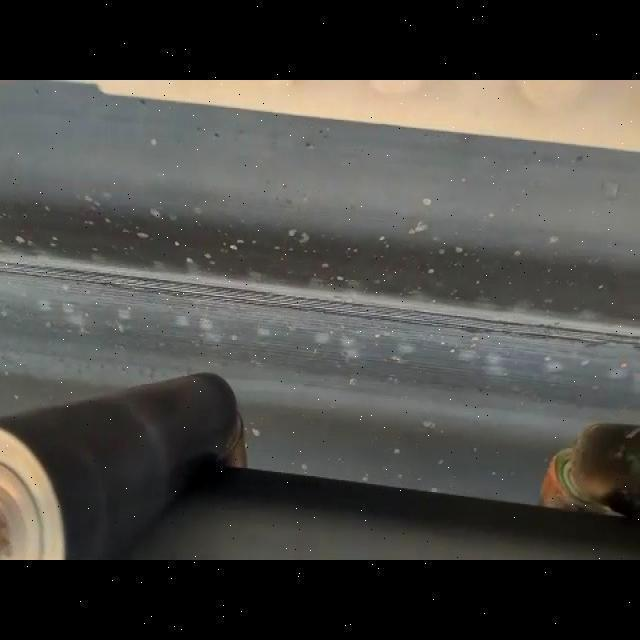Wear: (0, 248, 640, 356)
